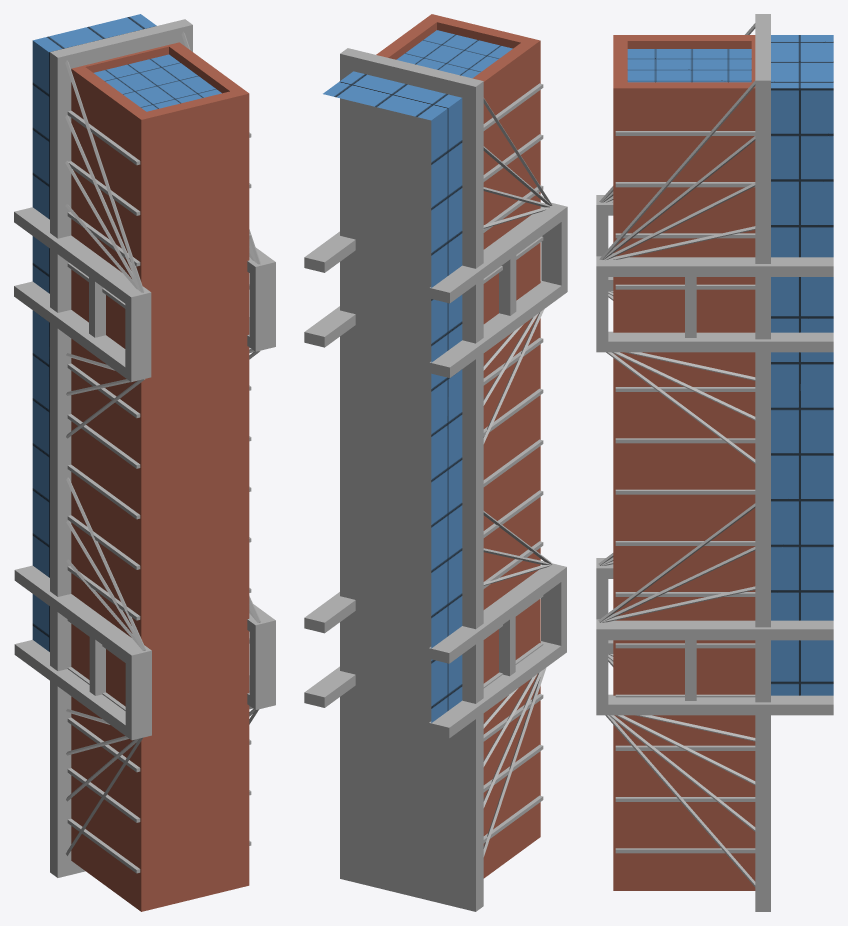
File: sggf.gltf
3 views of the same model, side by side, from view 1: azimuth 30°, elevation 25°; view 2: azimuth 150°, elevation 25°; view 3: azimuth 270°, elevation 25° (orthographic).
Parts seen in each view (by area): view 1: Box002; view 2: Box002; view 3: Box002.
Part boxes in pixels (bbox=[...]): Box002: bbox=[14, 14, 275, 911]; Box002: bbox=[304, 14, 567, 911]; Box002: bbox=[596, 14, 833, 911].
Bounding box in the file's own units: 21.41 × 116 × 30.
Materials: 4 (4 with a texture image).
